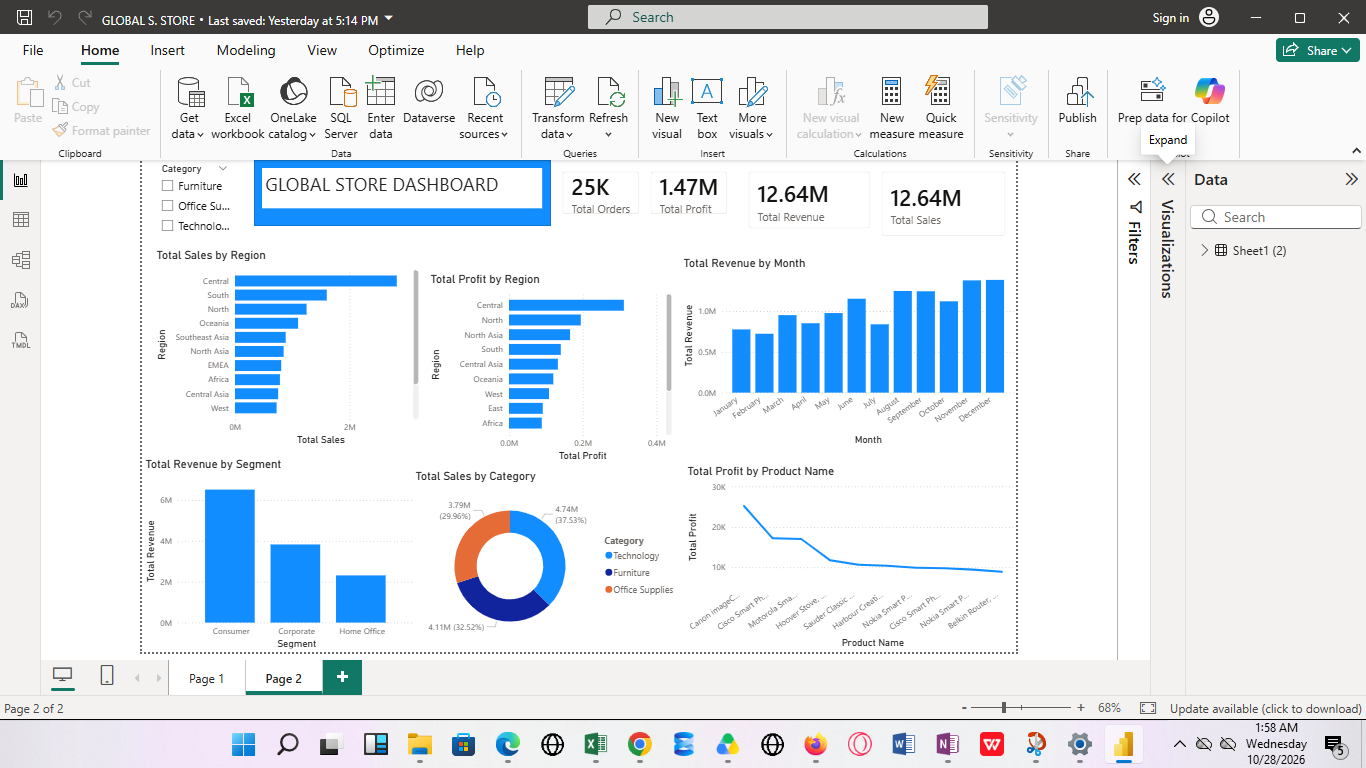

The dashboard page shown, as its layout file describes it:
{"tool":"powerbi","page":{"name":"Page 2","canvas":[1280,720],"ordinal":1},"visuals":[{"type":"cardVisual","fields":{"Data":["Sheet1 (2).Total Profit"]},"box":[727.3,0,146.3,96.6],"z":0},{"type":"cardVisual","fields":{"Data":["Sheet1 (2).Total Sales"]},"box":[1065.4,0,215.1,128.8],"z":1000},{"type":"cardVisual","fields":{"Data":["Sheet1 (2).Total Revenue"]},"box":[870.7,0,212.2,117.1],"z":2000},{"type":"cardVisual","fields":{"Data":["Sheet1 (2).Total Orders"]},"box":[598.5,0,146.3,96.6],"z":3000},{"type":"slicer","fields":{"Values":["Sheet1 (2).Category"]},"box":[16.1,0,121.5,128.8],"z":4000},{"type":"barChart","fields":{"Y":["Sheet1 (2).Total Sales"],"Category":["Sheet1 (2).Region"]},"box":[16.1,128.8,393.7,292.7],"z":5000},{"type":"clusteredBarChart","fields":{"Category":["Sheet1 (2).Region"],"Y":["Sheet1 (2).Total Profit"]},"box":[417.1,163.9,362.9,281],"z":6000},{"type":"lineChart","fields":{"Category":["Sheet1 (2).Product Name"],"Y":["Sheet1 (2).Total Profit"]},"box":[793.3,445,486.7,275],"z":7000},{"type":"clusteredColumnChart","fields":{"Category":["Sheet1 (2).Segment"],"Y":["Sheet1 (2).Total Revenue"]},"box":[0,434.6,403.9,285.4],"z":8000},{"type":"donutChart","fields":{"Category":["Sheet1 (2).Category"],"Y":["Sheet1 (2).Total Sales"]},"box":[395,451.7,396.7,265],"z":9000},{"type":"lineStackedColumnComboChart","fields":{"Category":["Sheet1 (2).Order Date.Variation.Date Hierarchy.Month"],"Y":["Sheet1 (2).Total Revenue"]},"box":[787.3,140.5,493.2,281],"z":10000},{"type":"shape","box":[163.9,0,434.6,96.6],"z":11000},{"type":"textbox","box":[175.6,11.7,409.8,58.5],"z":11500}]}

Visuals, with their boxes on the page's 1280x720 design canvas (x1, y1, x2, y2). These are canvas units, not pixel positions in the 1366x768 screenshot, which may show the page scaled, cropped or inside an application window:
cardVisual - Sheet1 (2).Total Profit: l=727, t=0, r=874, b=97
cardVisual - Sheet1 (2).Total Sales: l=1065, t=0, r=1280, b=129
cardVisual - Sheet1 (2).Total Revenue: l=871, t=0, r=1083, b=117
cardVisual - Sheet1 (2).Total Orders: l=598, t=0, r=745, b=97
slicer - Sheet1 (2).Category: l=16, t=0, r=138, b=129
barChart - Sheet1 (2).Total Sales x Sheet1 (2).Region: l=16, t=129, r=410, b=422
clusteredBarChart - Sheet1 (2).Region x Sheet1 (2).Total Profit: l=417, t=164, r=780, b=445
lineChart - Sheet1 (2).Product Name x Sheet1 (2).Total Profit: l=793, t=445, r=1280, b=720
clusteredColumnChart - Sheet1 (2).Segment x Sheet1 (2).Total Revenue: l=0, t=435, r=404, b=720
donutChart - Sheet1 (2).Category x Sheet1 (2).Total Sales: l=395, t=452, r=792, b=717
lineStackedColumnComboChart - Sheet1 (2).Order Date.Variation.Date Hierarchy.Month x Sheet1 (2).Total Revenue: l=787, t=140, r=1280, b=422
shape: l=164, t=0, r=598, b=97
textbox: l=176, t=12, r=585, b=70
